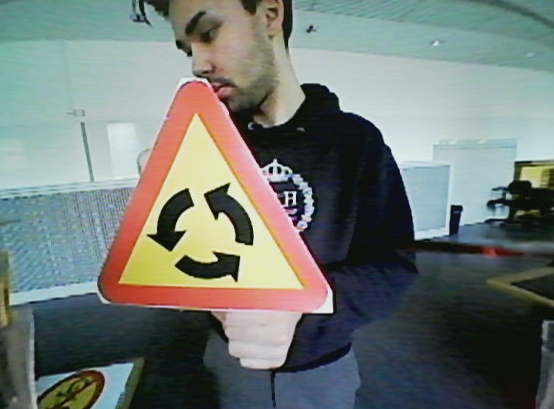roundabout_warning: (85, 71, 339, 317)
